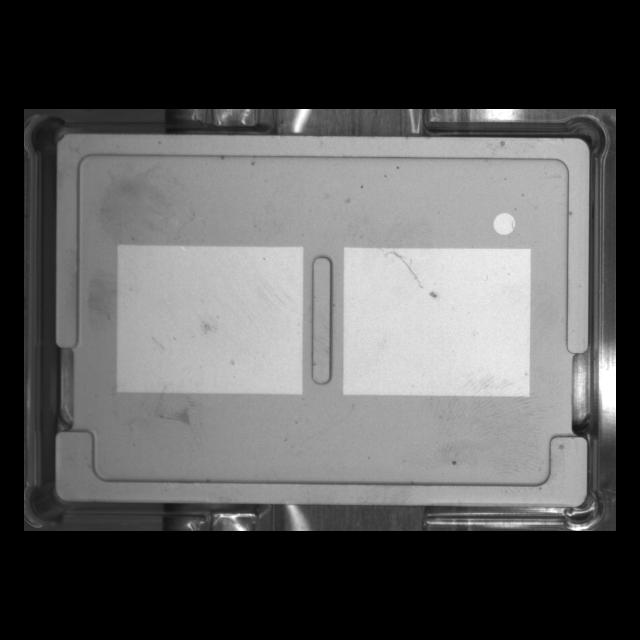door: (45, 415, 600, 519)
point: (487, 206, 523, 241)
